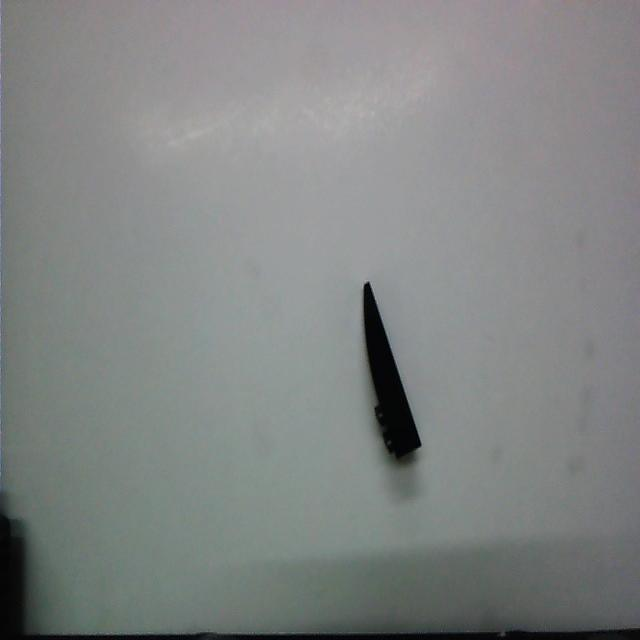lego_brick: (364, 283, 421, 457)
